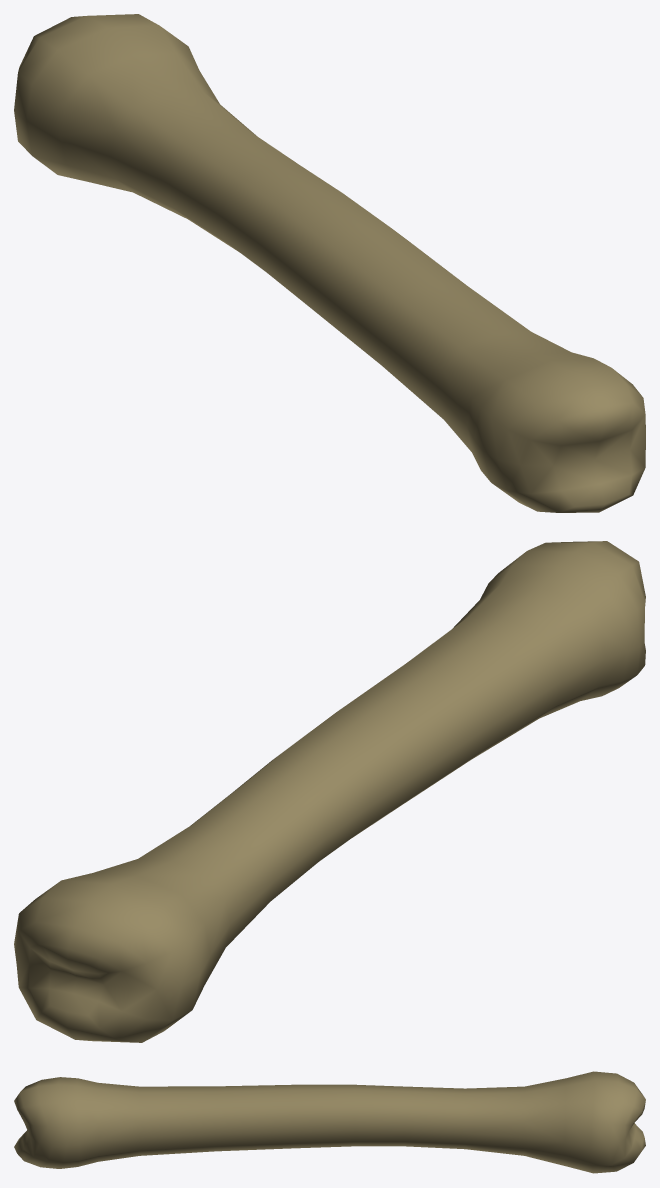
3 views of the same model, one above another, from view 1: azimuth 30°, elevation 25°; view 2: azimuth 150°, elevation 25°; view 3: azimuth 270°, elevation 25° (orthographic). The views are drawn at different scales.
Parts seen in each view (by area): view 1: SM_Bone_01_LOD0; view 2: SM_Bone_01_LOD0; view 3: SM_Bone_01_LOD0.
Boxes of the visible parts, bbox=[...] form: SM_Bone_01_LOD0: bbox=[14, 14, 645, 512]; SM_Bone_01_LOD0: bbox=[14, 541, 645, 1042]; SM_Bone_01_LOD0: bbox=[14, 1071, 645, 1173].
Size of the model in its own units: 0.1163 by 0.0938 by 0.641.
